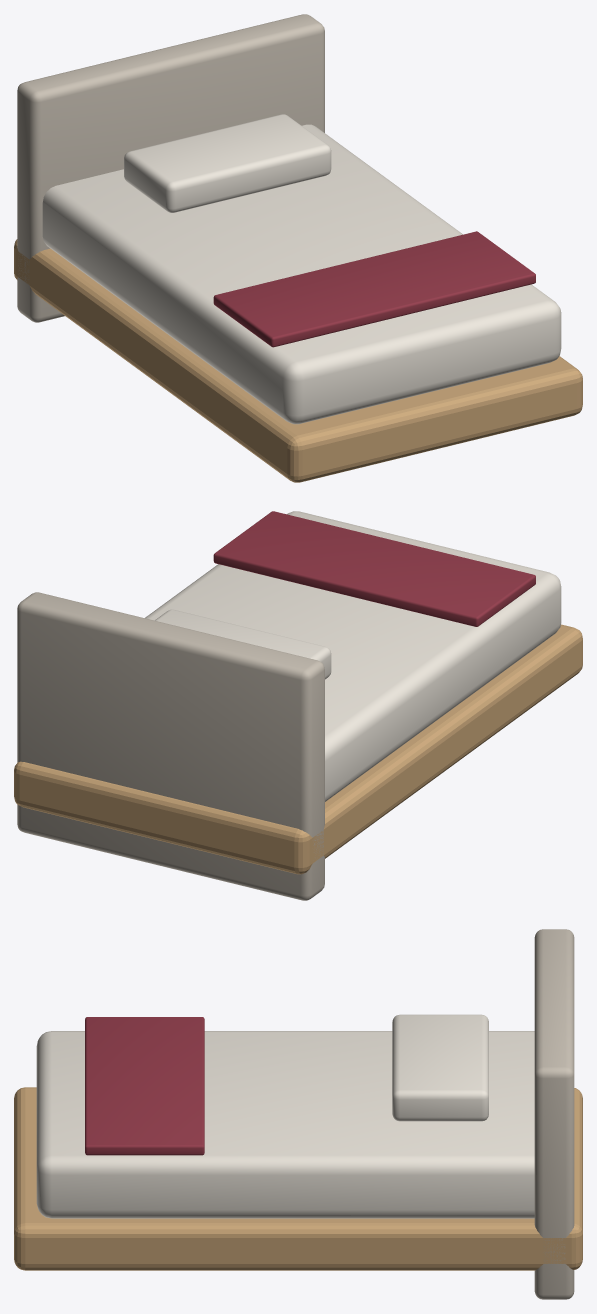
File: single-bed.glb
3 renders of one model, top to bottom at view 1: azimuth 30°, elevation 25°; view 2: azimuth 150°, elevation 25°; view 3: azimuth 270°, elevation 25°, orthographic.
Parts seen in each view (by area): view 1: CANONICAL mattress, CANONICAL headboard, CANONICAL bed frame, ACCENT runner, ACCENT pillow; view 2: CANONICAL headboard, CANONICAL mattress, CANONICAL bed frame, ACCENT runner, ACCENT pillow; view 3: CANONICAL mattress, CANONICAL bed frame, ACCENT runner, CANONICAL headboard, ACCENT pillow.
Boxes of the visible parts, left/top/right/bottom form: CANONICAL mattress: left=42, top=124, right=561, bottom=424; CANONICAL headboard: left=17, top=14, right=324, bottom=322; CANONICAL bed frame: left=14, top=239, right=582, bottom=482; ACCENT runner: left=213, top=231, right=535, bottom=347; ACCENT pillow: left=124, top=114, right=331, bottom=212; CANONICAL headboard: left=17, top=592, right=324, bottom=900; CANONICAL mattress: left=145, top=511, right=561, bottom=801; CANONICAL bed frame: left=14, top=624, right=582, bottom=874; ACCENT runner: left=213, top=511, right=535, bottom=626; ACCENT pillow: left=155, top=609, right=331, bottom=679; CANONICAL mattress: left=36, top=1031, right=534, bottom=1218; CANONICAL bed frame: left=14, top=1087, right=582, bottom=1270; ACCENT runner: left=85, top=1017, right=204, bottom=1155; CANONICAL headboard: left=534, top=929, right=574, bottom=1299; ACCENT pillow: left=392, top=1014, right=488, bottom=1121.
Size of the model in its own units: 1.2 by 0.9 by 2.
